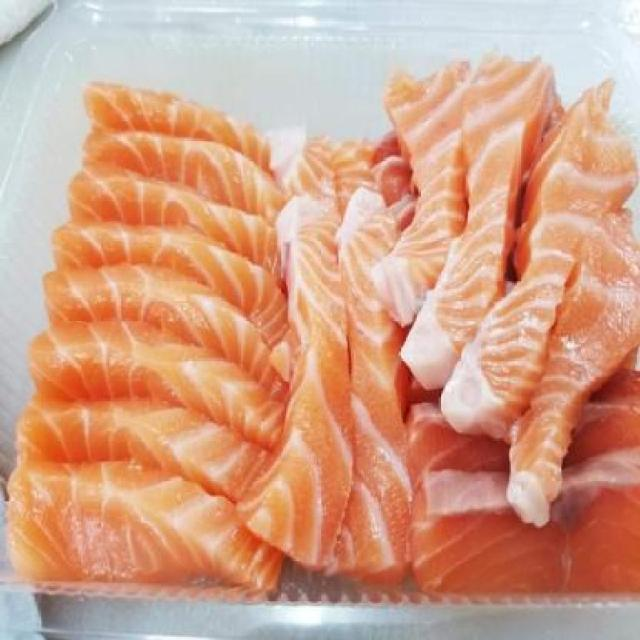salmon: (32, 64, 640, 592)
